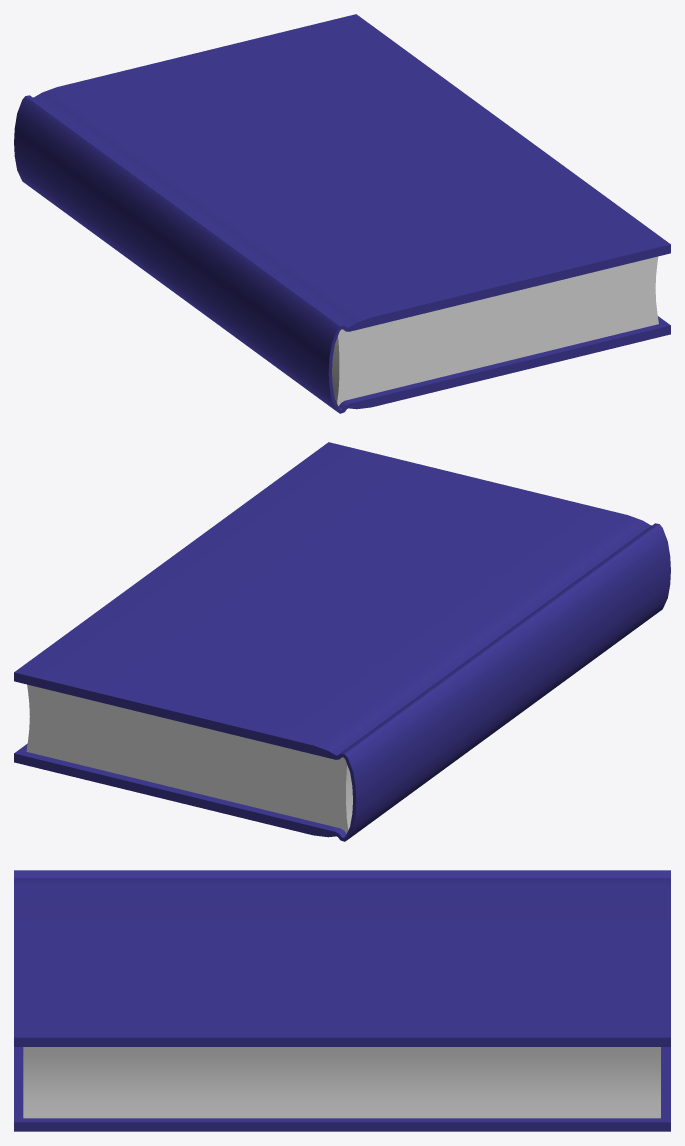
Rendered from kitap_mavi.fbx.
3 renders of one model, top to bottom at view 1: azimuth 30°, elevation 25°; view 2: azimuth 150°, elevation 25°; view 3: azimuth 270°, elevation 25°, orthographic. The views are drawn at different scales.
Parts seen in each view (by area): view 1: book_01; view 2: book_01; view 3: book_01.
Boxes of the visible parts, x1,y1,x2,y2 form: book_01: (14,14,670,413); book_01: (14,442,670,841); book_01: (14,870,670,1131).
Bounding box in the file's own units: 13.51 × 3.39 × 21.51.
